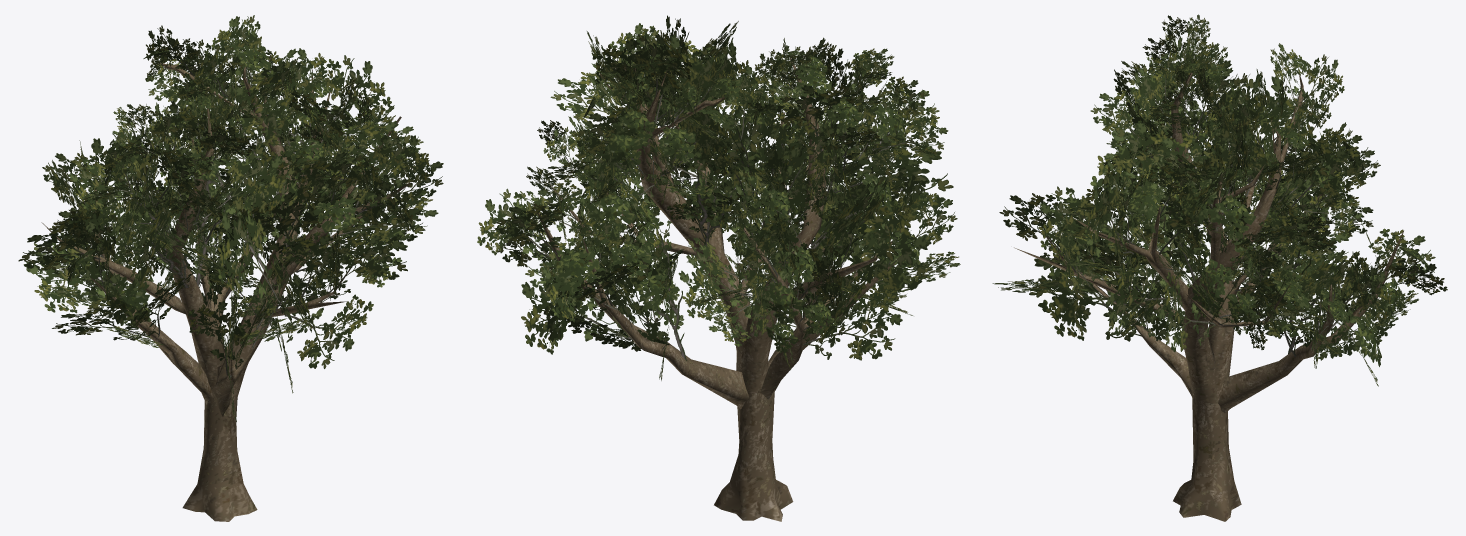
File: Stage_Obj001.fbx
3 views of the same model, side by side, from view 1: azimuth 30°, elevation 25°; view 2: azimuth 150°, elevation 25°; view 3: azimuth 270°, elevation 25° (orthographic). The views are drawn at different scales.
Visible parts, largest first — view 1: SM_SampleGame_Tree002, SM_SampleGame_Tree001; view 2: SM_SampleGame_Tree002, SM_SampleGame_Tree001; view 3: SM_SampleGame_Tree002, SM_SampleGame_Tree001.
Part boxes in pixels (x1,y1,x2,y2): SM_SampleGame_Tree002: [18, 15, 443, 421]; SM_SampleGame_Tree001: [41, 55, 411, 521]; SM_SampleGame_Tree002: [477, 15, 960, 380]; SM_SampleGame_Tree001: [533, 49, 902, 521]; SM_SampleGame_Tree002: [992, 14, 1447, 386]; SM_SampleGame_Tree001: [1014, 72, 1403, 521].
Size of the model in its own units: 809 by 933 by 846.
Materials: 2 (2 with a texture image).
